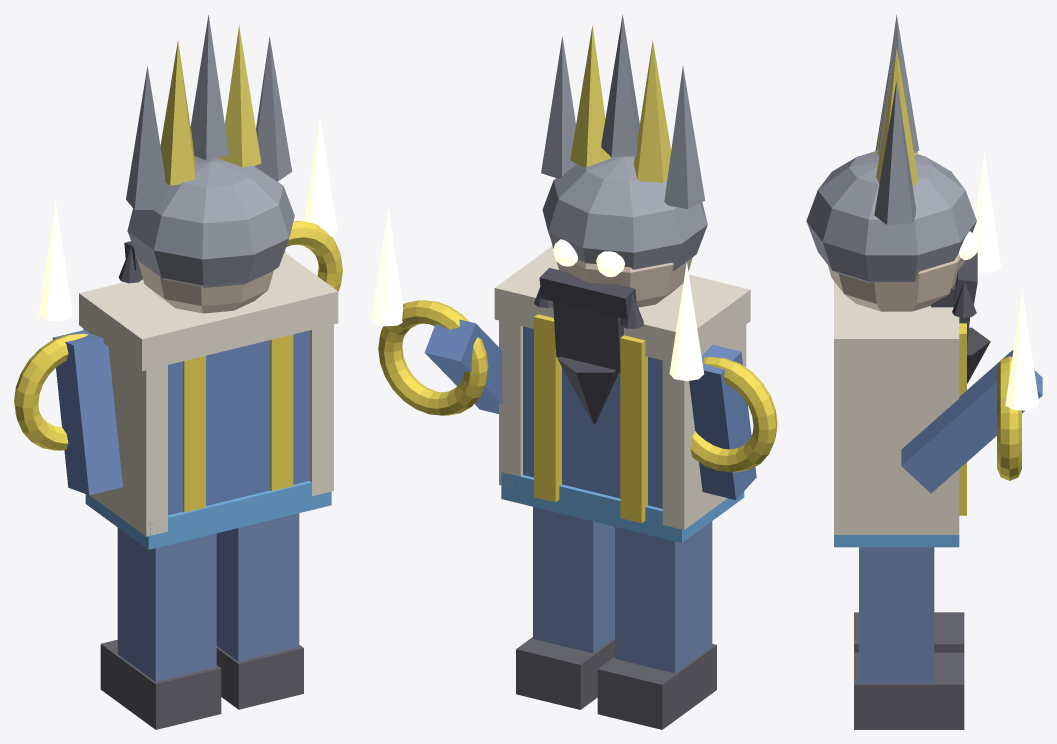
Rendered from hero_wizard.glb.
3 views of the same model, side by side, from view 1: azimuth 30°, elevation 25°; view 2: azimuth 150°, elevation 25°; view 3: azimuth 270°, elevation 25° (orthographic).
Parts seen in each view (by area): view 1: hero_wizard; view 2: hero_wizard; view 3: hero_wizard.
Boxes of the visible parts, x1,y1,x2,y2 form: hero_wizard: (14,15,342,729); hero_wizard: (371,15,777,729); hero_wizard: (806,15,1042,729).
Size of the model in its own units: 1.67 by 2.99 by 0.9416.
